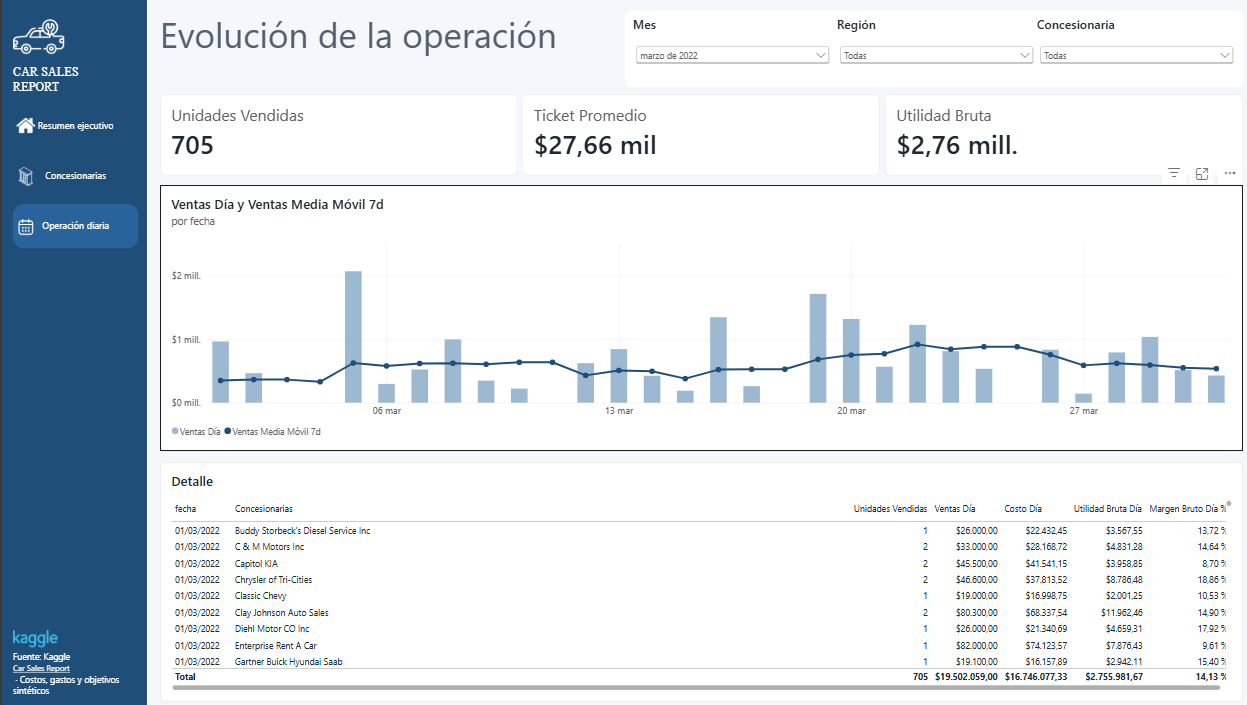

What the dashboard file says about the page in this screenshot:
{"tool":"powerbi","page":{"name":"Operación diaria","canvas":[1920,1080],"ordinal":2},"visuals":[{"type":"shape","box":[0,0,221.8,1080],"z":0,"group":"g2"},{"type":"shape","box":[950.1,21.3,941.7,116.7],"z":0},{"type":"cardVisual","fields":{"Data":["kpis.Num Ventas","kpis.Ticket Promedio","kpis.Utilidad Bruta"]},"box":[241.8,147.8,1648.6,125],"z":0,"group":"g3"},{"type":"textbox","box":[18.8,104.1,191.2,56.5],"z":1000,"group":"g2"},{"type":"image","box":[18.5,181.2,39.5,28.6],"z":1000},{"type":"slicer","title":"Mes","fields":{"Values":["DimMes.mes"]},"box":[962.1,28.6,303.8,103.3],"z":2000},{"type":"pageNavigator","box":[18.6,162.9,191.4,222.9],"z":2000,"group":"g2"},{"type":"image","box":[18.5,258.5,39.5,28.6],"z":2000},{"type":"image","box":[18.5,336.5,39.5,28.6],"z":3000},{"type":"group","id":"g1","title":"Group 3","box":[0,0,221.4,1080],"z":4000},{"type":"group","id":"g2","title":"Group 1","box":[0,0,221.8,1080],"z":5000,"group":"g1"},{"type":"textbox","box":[241.7,20,685,116.7],"z":5000},{"type":"group","id":"g3","title":"Group 4","box":[241.8,147.8,1648.6,125],"z":6000},{"type":"image","box":[18.8,20.6,78.6,77.9],"z":7000,"group":"g2"},{"type":"slicer","title":"Región","fields":{"Values":["dim_concesionaria.region"]},"box":[1273.2,28.6,303.8,103.3],"z":7000},{"type":"lineClusteredColumnComboChart","fields":{"Category":["dim_fecha.fecha"],"Y":["kpis.Ventas Día"],"Y2":["kpis.Ventas Media Móvil 7d"]},"box":[241.8,286.2,1648.6,405.8],"z":7000},{"type":"slicer","title":"Concesionaria","fields":{"Values":["dim_concesionaria.dealer_name"]},"box":[1578.2,28.6,303.8,103.3],"z":8000},{"type":"tableEx","title":"Detalle","fields":{"Values":["dim_fecha.fecha","kpi_diario.dealer_name","kpis.Num Ventas Día","kpis.Ventas Día","kpis.Costo Día","kpis.Utilidad Bruta Día","kpis.Margen Bruto Día %"]},"box":[241.8,708.1,1648.6,365.5],"z":8000},{"type":"image","box":[18.5,181.2,39.5,28.6],"z":9500,"group":"g1"},{"type":"image","box":[18.5,258.5,39.5,28.6],"z":10000,"group":"g1"},{"type":"image","box":[18.5,336.5,39.5,28.6],"z":10500,"group":"g1"},{"type":"image","box":[18.5,959.2,68.2,35.9],"z":11000,"group":"g2"},{"type":"textbox","box":[18.5,995.4,170,77.7],"z":12000,"group":"g2"}]}

Visuals, with their boxes on the page's 1920x1080 design canvas (x1, y1, x2, y2). These are canvas units, not pixel positions in the 1247x705 screenshot, which may show the page scaled, cropped or inside an application window:
shape: bbox(0, 0, 222, 1080)
shape: bbox(950, 21, 1892, 138)
cardVisual - kpis.Num Ventas x kpis.Ticket Promedio: bbox(242, 148, 1890, 273)
textbox: bbox(19, 104, 210, 161)
image: bbox(18, 181, 58, 210)
"Mes" slicer: bbox(962, 29, 1266, 132)
pageNavigator: bbox(19, 163, 210, 386)
image: bbox(18, 258, 58, 287)
image: bbox(18, 336, 58, 365)
"Group 3" group: bbox(0, 0, 221, 1080)
"Group 1" group: bbox(0, 0, 222, 1080)
textbox: bbox(242, 20, 927, 137)
"Group 4" group: bbox(242, 148, 1890, 273)
image: bbox(19, 21, 97, 98)
"Región" slicer: bbox(1273, 29, 1577, 132)
lineClusteredColumnComboChart - dim_fecha.fecha x kpis.Ventas Día: bbox(242, 286, 1890, 692)
"Concesionaria" slicer: bbox(1578, 29, 1882, 132)
"Detalle" tableEx: bbox(242, 708, 1890, 1074)
image: bbox(18, 181, 58, 210)
image: bbox(18, 258, 58, 287)
image: bbox(18, 336, 58, 365)
image: bbox(18, 959, 87, 995)
textbox: bbox(18, 995, 188, 1073)
